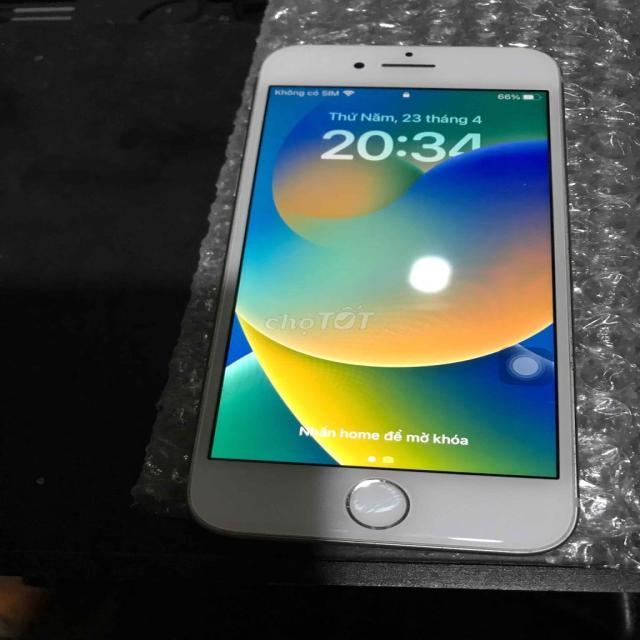gen_7_8: (180, 31, 585, 560)
scratch: (337, 476, 410, 518)
